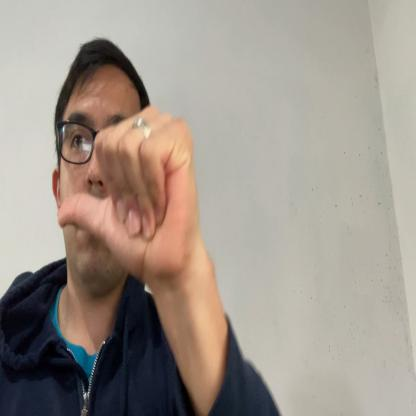A: (58, 103, 202, 291)
